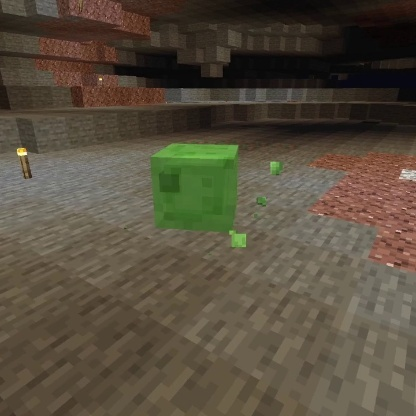slime: (147, 139, 242, 236)
